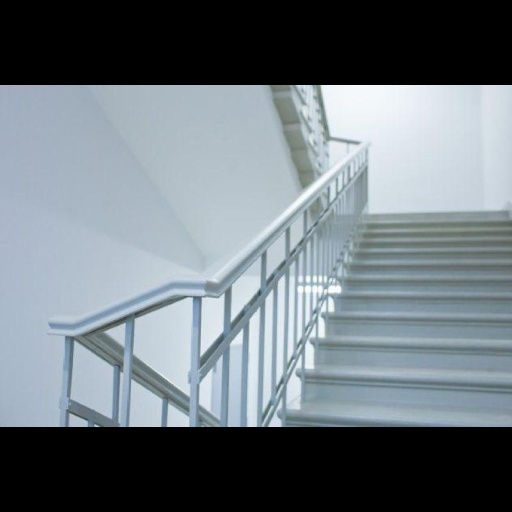Stairs: (288, 214, 512, 426)
